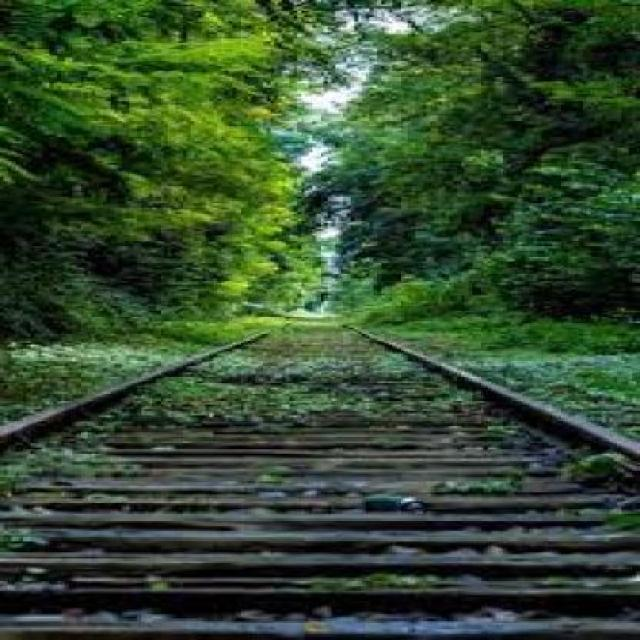rail: (14, 310, 640, 632)
